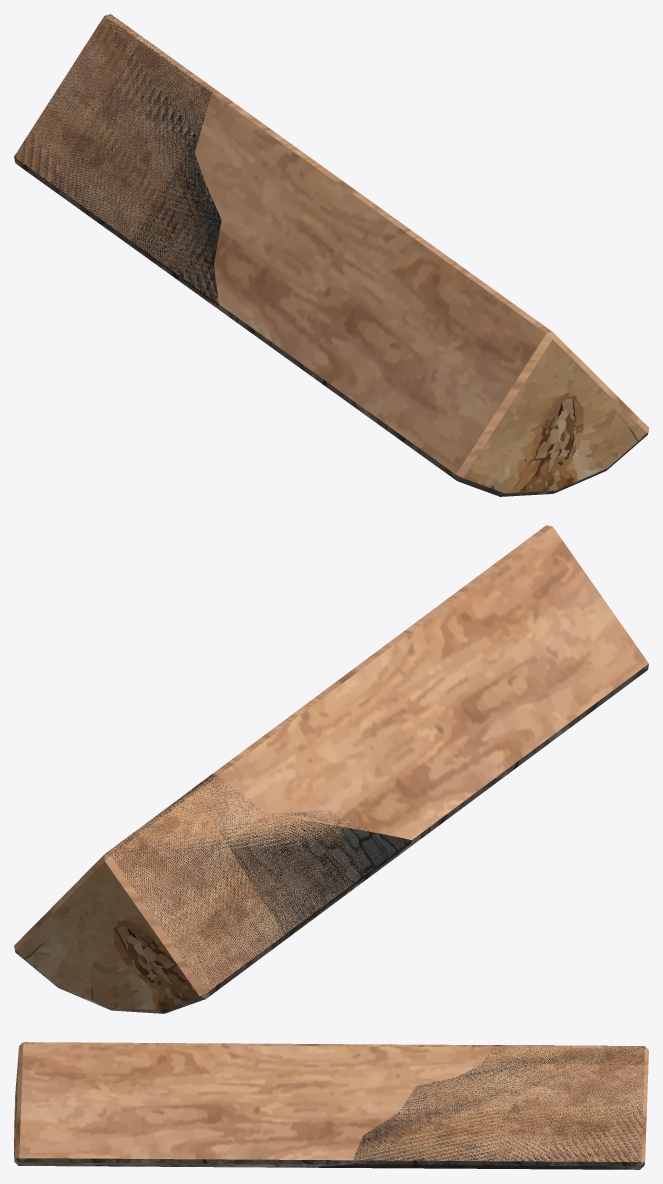
The model's file is Wood Fire 1.fbx.
3 views of the same model, one above another, from view 1: azimuth 30°, elevation 25°; view 2: azimuth 150°, elevation 25°; view 3: azimuth 270°, elevation 25° (orthographic). The views are drawn at different scales.
Visible parts, largest first — view 1: Camp Log, Camp Log Half Burnt; view 2: Camp Log, Camp Log Half Burnt; view 3: Camp Log, Camp Log Half Burnt.
Boxes of the visible parts, x1,y1,x2,y2 form: Camp Log: (14,14,648,496); Camp Log Half Burnt: (14,15,552,479); Camp Log: (14,525,648,1013); Camp Log Half Burnt: (106,525,648,995); Camp Log: (14,1042,648,1169); Camp Log Half Burnt: (18,1042,644,1169).
Bounding box in the file's own units: 124 × 101 × 504.
Materials: 7 (7 with a texture image).
